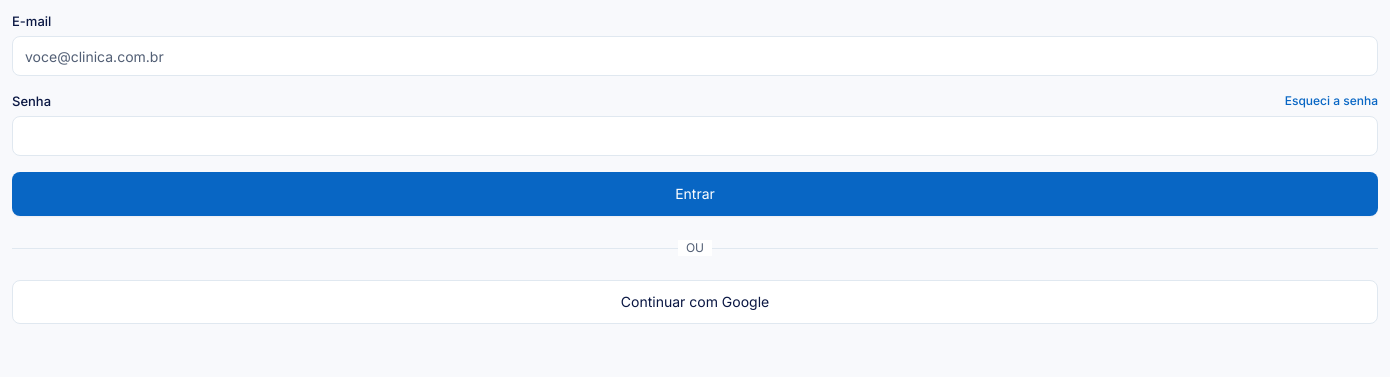
Test: LoginForm › mostra mensagem amigável quando authClient retorna erro
The width and height of the screenshot is (1390, 377).
Type "admin@clinica.com" into the field labelled "E-mail".
click(695, 56); type("admin@clinica.com")  # box [12,36,1378,76]
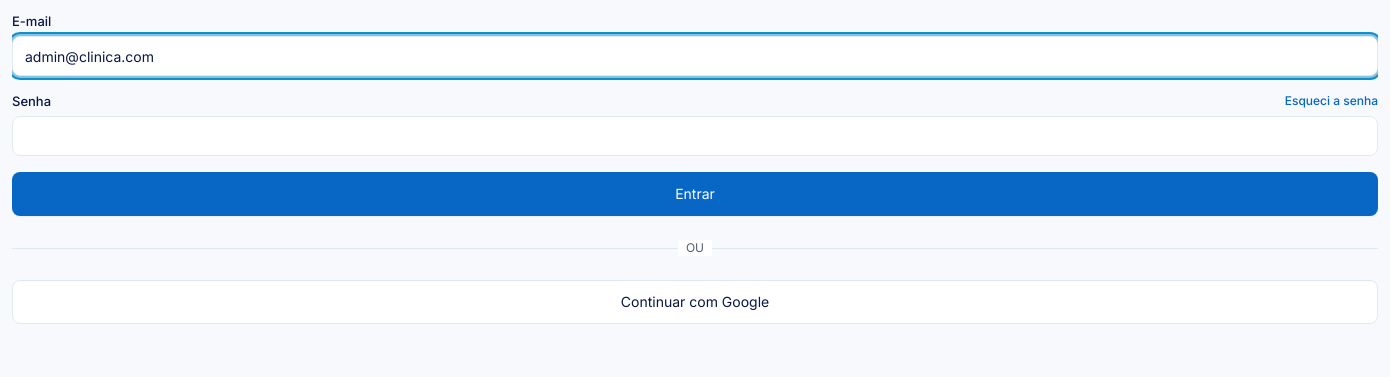
Type "errada" into the password field labelled "Senha".
click(695, 136); type("errada")  # box [12,116,1378,156]
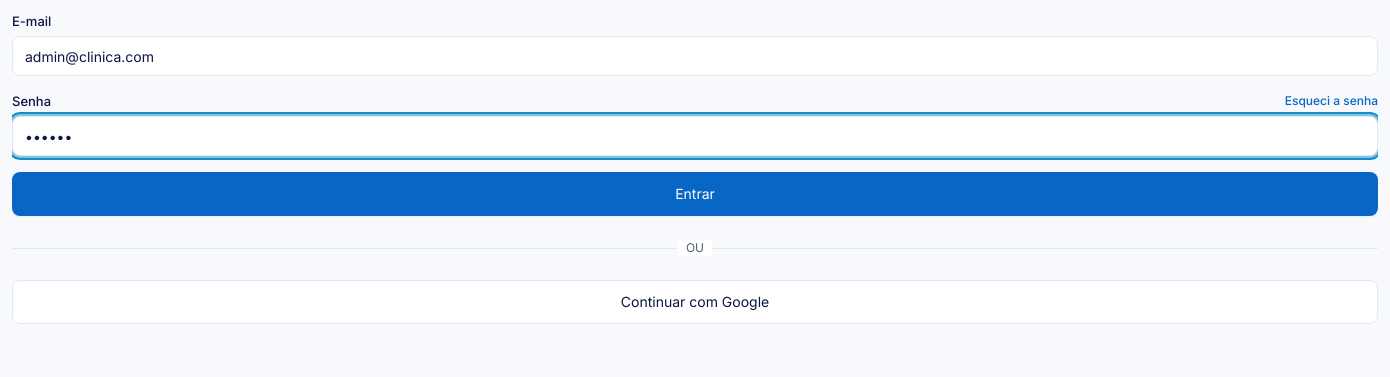
Click the button "Entrar".
click(695, 194)  # box [12,172,1378,216]
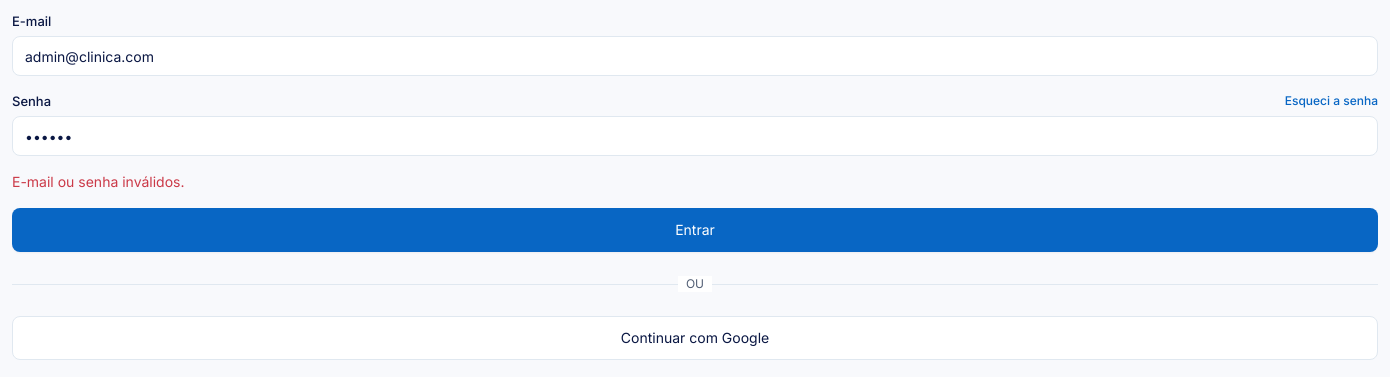
Expected: the message reads "E-mail ou senha inválidos.", [12,173,184,190]
